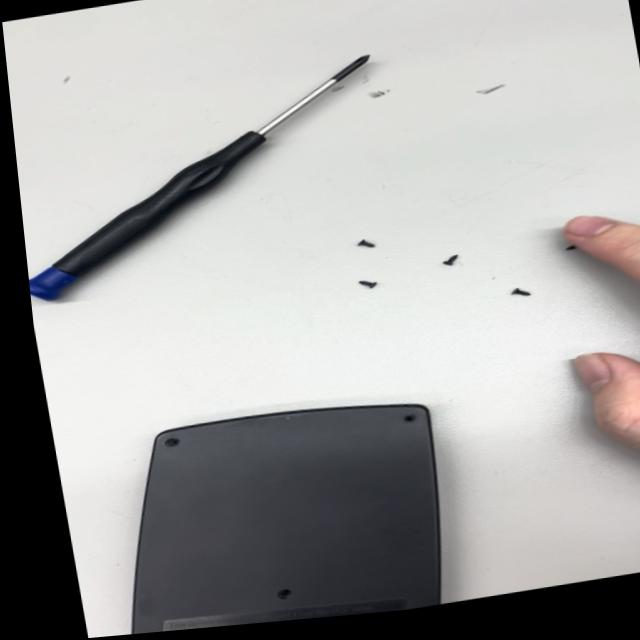back_cover: (91, 380, 466, 636)
screw: (347, 271, 385, 298), (503, 279, 540, 302), (436, 247, 466, 272), (351, 232, 381, 256)
screw_driver: (8, 47, 407, 302)
